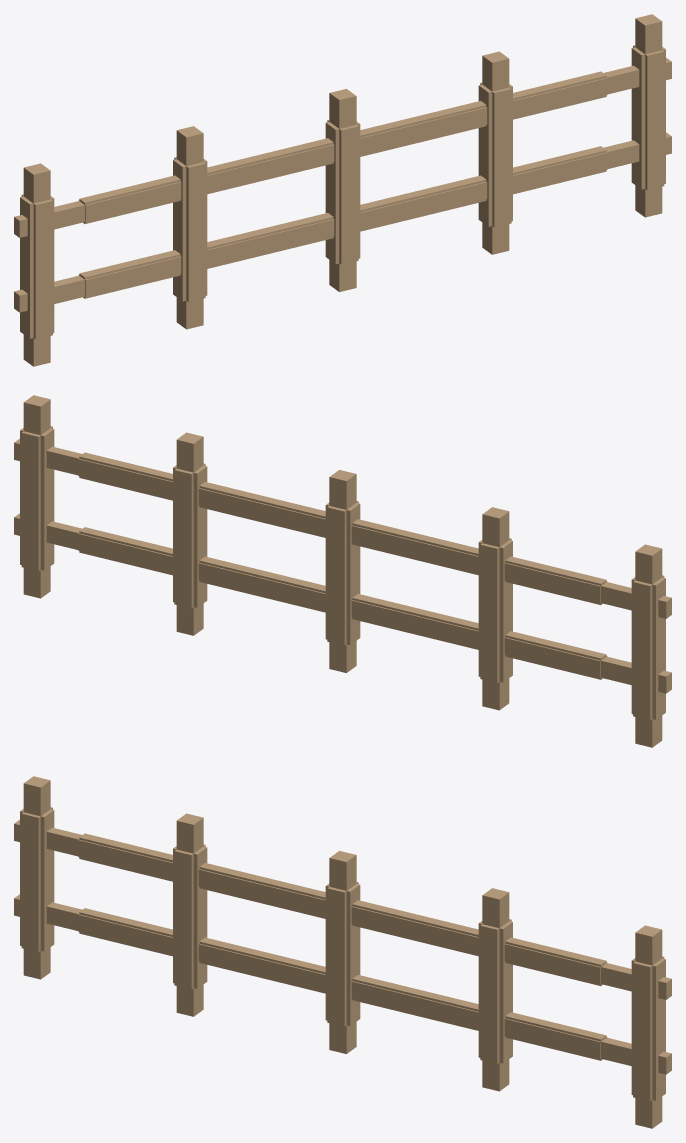
File: build_fence.glb
The picture shows the model from 3 angles, top to bottom: view 1: azimuth 30°, elevation 25°; view 2: azimuth 150°, elevation 25°; view 3: azimuth 330°, elevation 25°; orthographic projection.
Visible parts, largest first — view 1: box; view 2: box; view 3: box.
Part boxes in pixels (x1,y1,x2,y2): box: [14, 14, 671, 366]; box: [14, 395, 671, 747]; box: [14, 776, 671, 1128].
Bounding box in the file's own units: 3.2 × 0.9 × 0.12.
